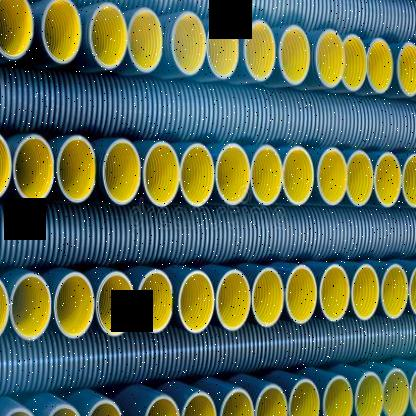pipe: (13, 134, 55, 203), (10, 274, 52, 340), (55, 272, 95, 339), (41, 0, 82, 63), (58, 135, 96, 202), (103, 139, 141, 205), (96, 272, 134, 336), (91, 3, 127, 69), (137, 270, 173, 334), (178, 271, 215, 333), (144, 142, 179, 206), (180, 144, 215, 206), (129, 10, 163, 72), (216, 144, 250, 205), (216, 271, 251, 330), (0, 0, 34, 60), (173, 13, 206, 74), (251, 145, 282, 205), (286, 264, 317, 324), (283, 146, 314, 205), (252, 268, 283, 326), (208, 18, 239, 76), (320, 264, 350, 322), (246, 22, 276, 80), (318, 148, 348, 205), (280, 26, 310, 83), (351, 264, 380, 320), (317, 30, 345, 85), (347, 150, 374, 206), (375, 152, 402, 208), (381, 264, 408, 319), (382, 367, 410, 416), (354, 371, 383, 416), (368, 40, 393, 92), (343, 35, 367, 89), (324, 375, 354, 416), (289, 379, 320, 416), (255, 384, 287, 416), (220, 388, 254, 416), (398, 44, 416, 95), (181, 392, 217, 416), (0, 128, 11, 202), (401, 153, 416, 207), (143, 395, 180, 416), (0, 278, 12, 342), (84, 399, 125, 416), (408, 262, 416, 317), (48, 404, 80, 416), (3, 407, 39, 416), (410, 364, 416, 416)
